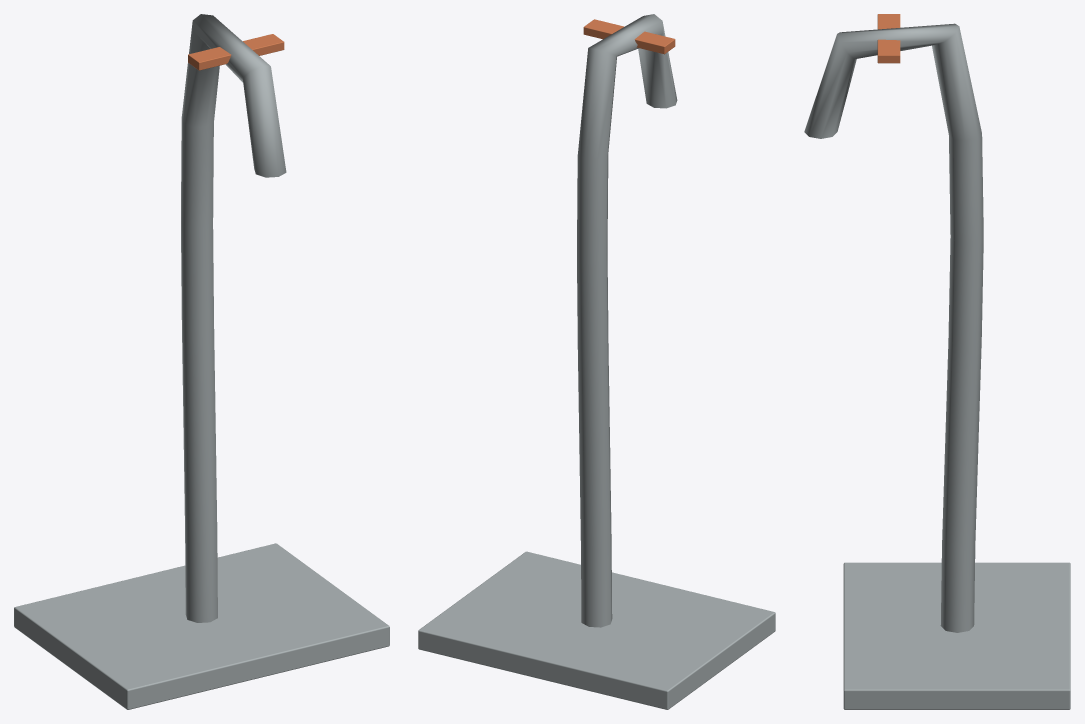
File: water-collection-and-purification-tap-stand-7440c211__20203.glb
3 renders of one model, left to right at view 1: azimuth 30°, elevation 25°; view 2: azimuth 150°, elevation 25°; view 3: azimuth 270°, elevation 25°, orthographic. The views are drawn at different scales.
Parts seen in each view (by area): view 1: tap-stand; view 2: tap-stand; view 3: tap-stand.
Boxes of the visible parts, bbox=[...] form: tap-stand: bbox=[14, 14, 389, 709]; tap-stand: bbox=[418, 14, 775, 709]; tap-stand: bbox=[804, 14, 1070, 709].
Size of the model in its own units: 0.4 by 0.904 by 0.352.
